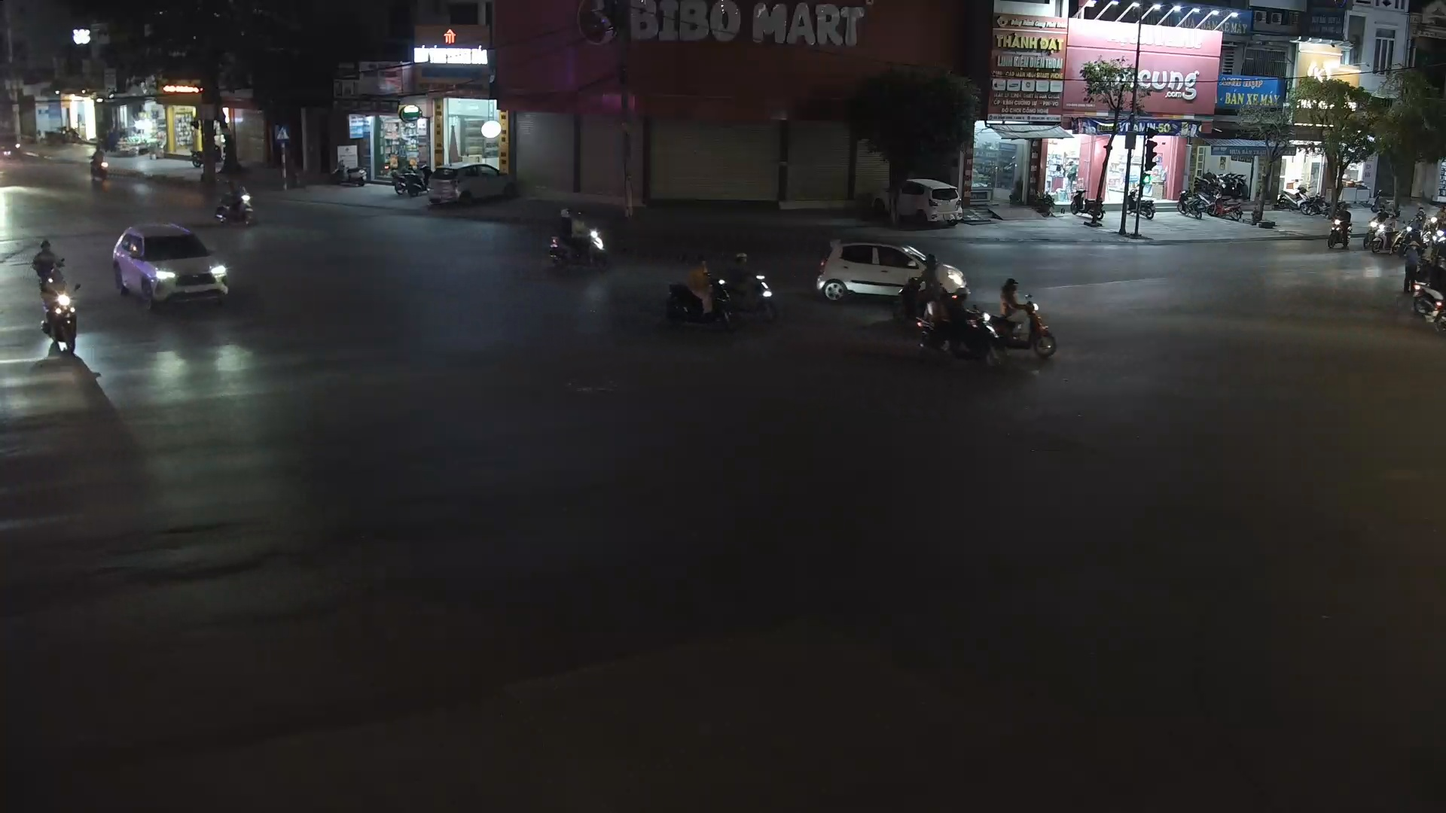car: (110, 220, 231, 314), (814, 232, 967, 306), (427, 159, 521, 211)
motorbike: (914, 272, 1007, 369), (985, 275, 1059, 362), (661, 258, 739, 332), (545, 203, 611, 273), (39, 274, 84, 355), (215, 172, 257, 226)
